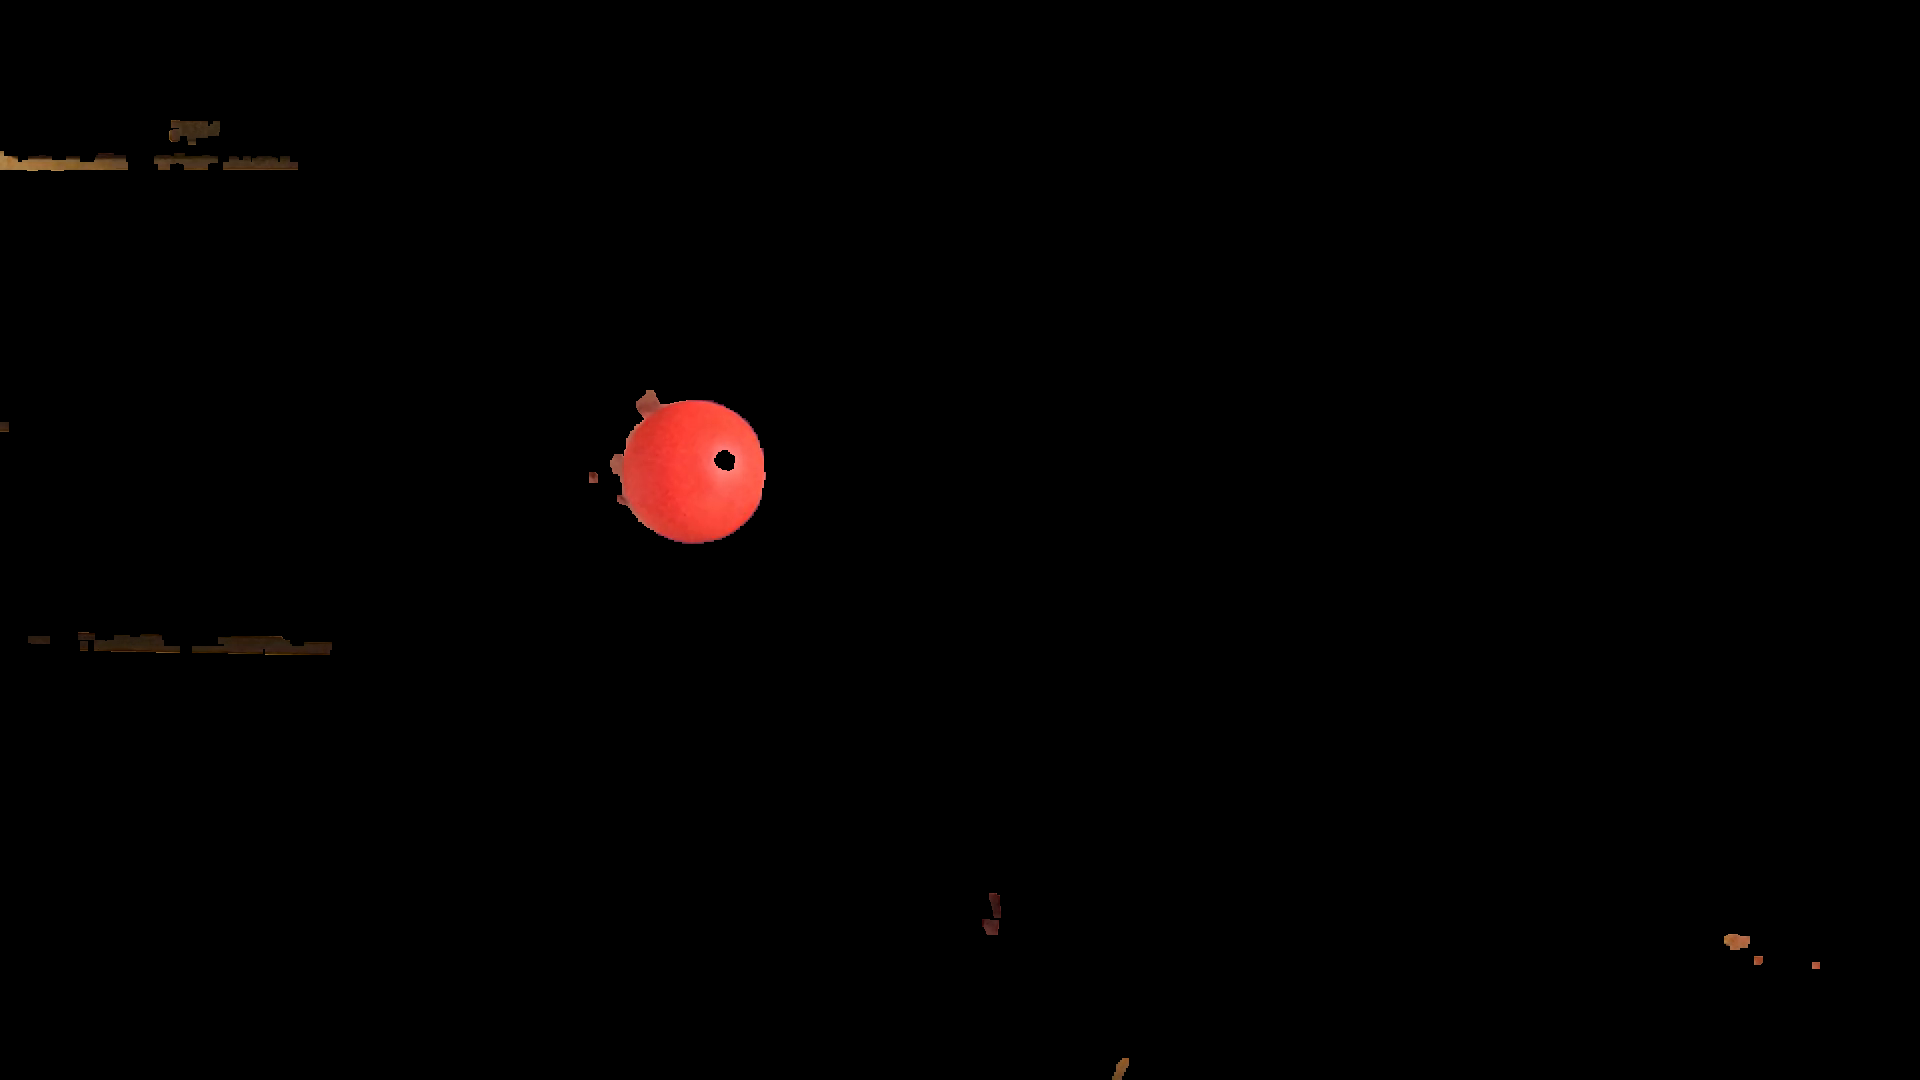Ball: (626, 401, 765, 547)
